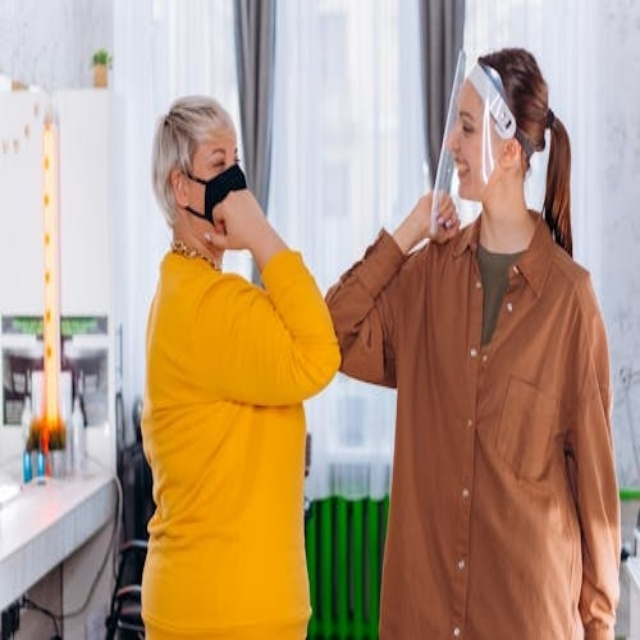Mascara: (202, 167, 256, 236)
Sin_gafas: (192, 138, 246, 177), (452, 110, 479, 136)
Sin_guantes: (214, 188, 270, 258), (415, 177, 461, 248)
Sin_mascara: (449, 154, 475, 185)
